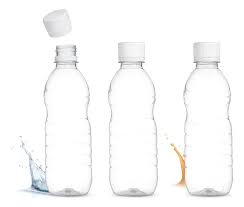Botella: (109, 43, 157, 195), (184, 44, 232, 194), (45, 46, 91, 194)
